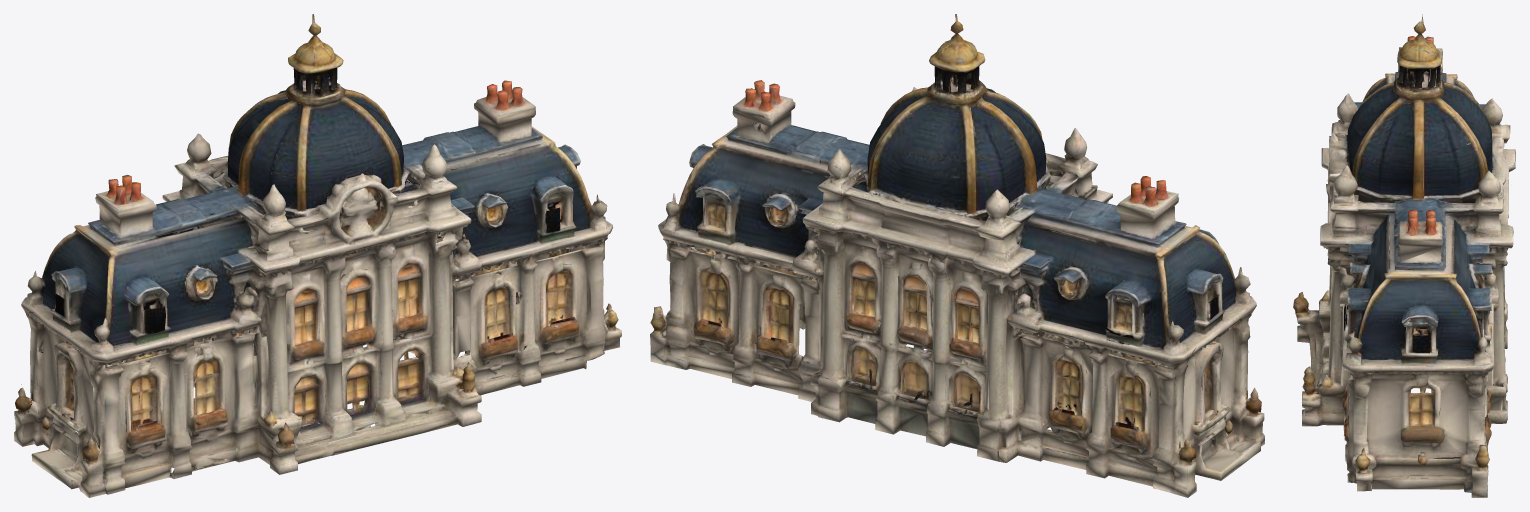
The picture shows the model from 3 angles, left to right: view 1: azimuth 30°, elevation 25°; view 2: azimuth 150°, elevation 25°; view 3: azimuth 270°, elevation 25°; orthographic projection. The views are drawn at different scales.
Parts seen in each view (by area): view 1: classic__finance_3__neural_lod; view 2: classic__finance_3__neural_lod; view 3: classic__finance_3__neural_lod.
Part boxes in pixels (<box>): classic__finance_3__neural_lod: <box>14,14,621,497</box>; classic__finance_3__neural_lod: <box>650,14,1264,497</box>; classic__finance_3__neural_lod: <box>1293,14,1515,497</box>.
Bounding box in the file's own units: 1 × 0.682 × 0.3746.
1 material, 1 textured.
